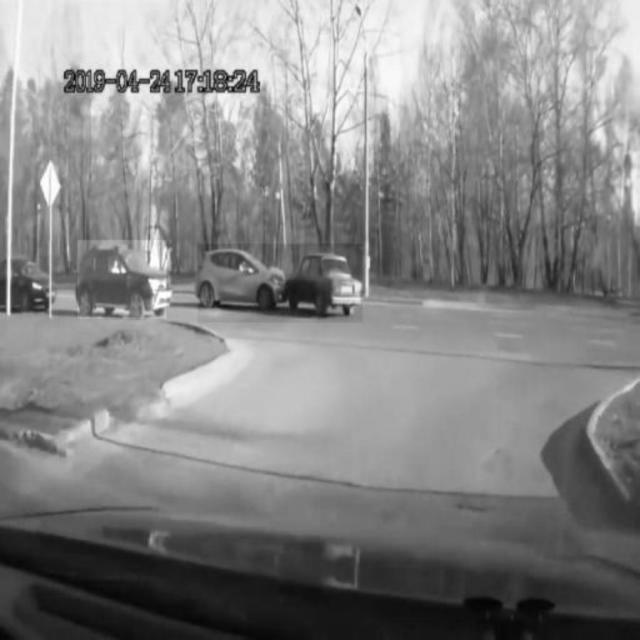accident: (198, 244, 363, 322)
vehicle: (78, 241, 166, 319)
